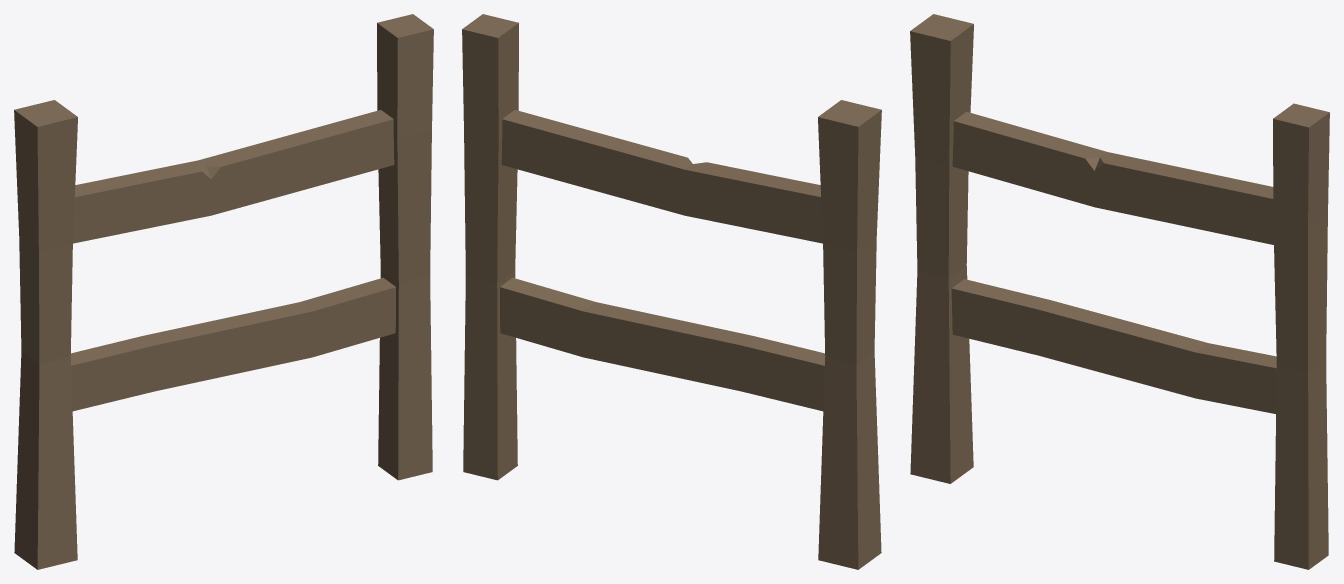
File: fence_b_1m_node.FBX
3 renders of one model, left to right at view 1: azimuth 30°, elevation 25°; view 2: azimuth 150°, elevation 25°; view 3: azimuth 330°, elevation 25°, orthographic.
Visible parts, largest first — view 1: fence_b_1m_node; view 2: fence_b_1m_node; view 3: fence_b_1m_node.
Boxes of the visible parts, x1=… form: fence_b_1m_node: x1=14, y1=14, x2=433, y2=569; fence_b_1m_node: x1=462, y1=14, x2=881, y2=569; fence_b_1m_node: x1=910, y1=14, x2=1329, y2=569.
Bounding box in the file's own units: 1.11 × 1.18 × 0.1131.
